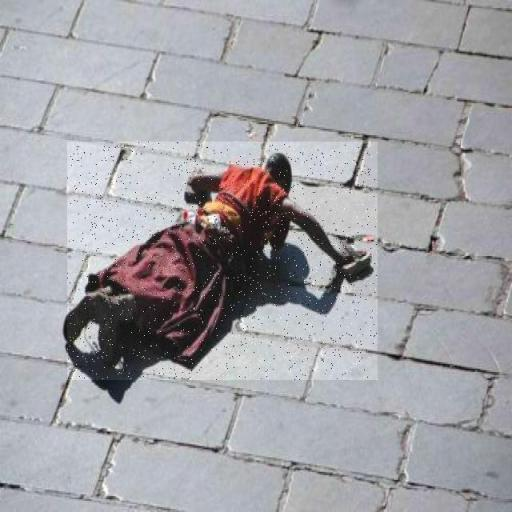Fall: (68, 142, 378, 380)
